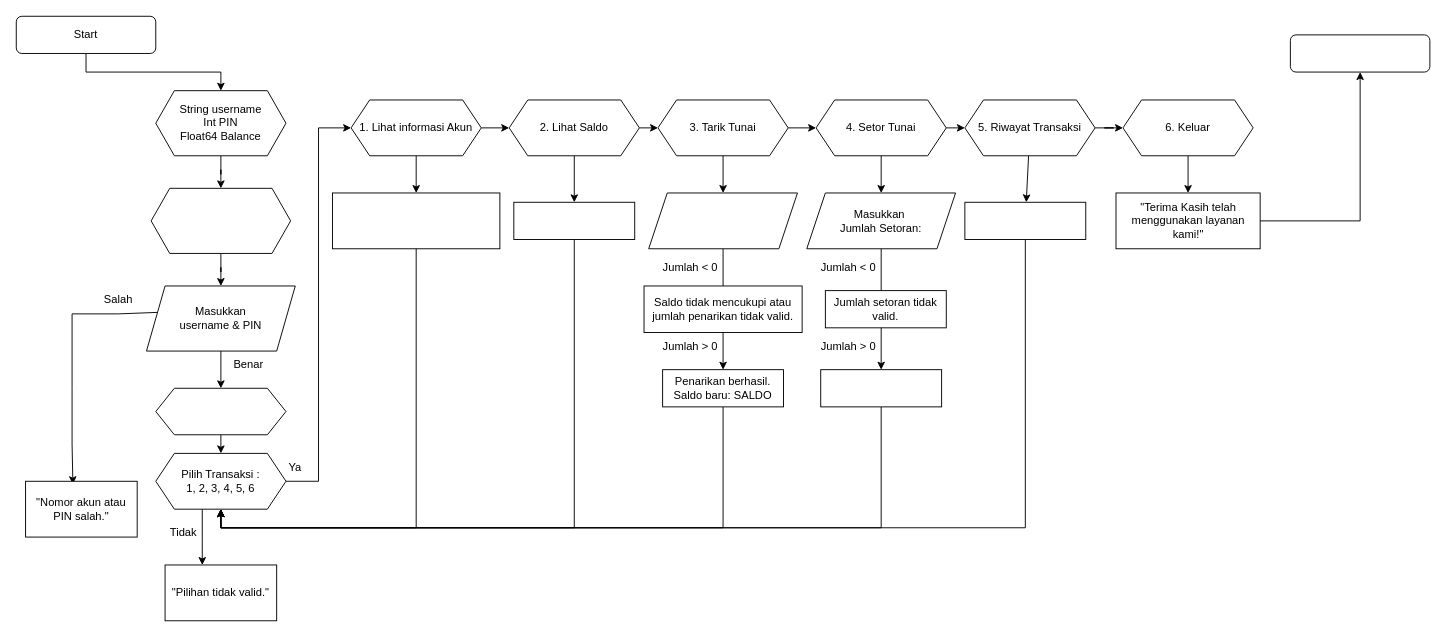
Image size: 1446x637. Some labels were removed from this diagram. The centre of each missing label's shape, as x and y in pixels:
"Ini adalah informasi akun anda Username : Hanoy PIN : 2406361416": (416,220)
"Selamat datang!": (220,411)
END: (1359,53)
Masukkan Jumlah Penarikan:: (722,220)
Saldo anda saat ini tersisa: SALDO: (1025,220)
Saldo anda: SALDO: (574,220)
Setoran berhasil. Saldo baru: SALDO: (881,388)
Username : Hanoy PIN : 2406361416 Balance : 3.500.000: (220,220)
